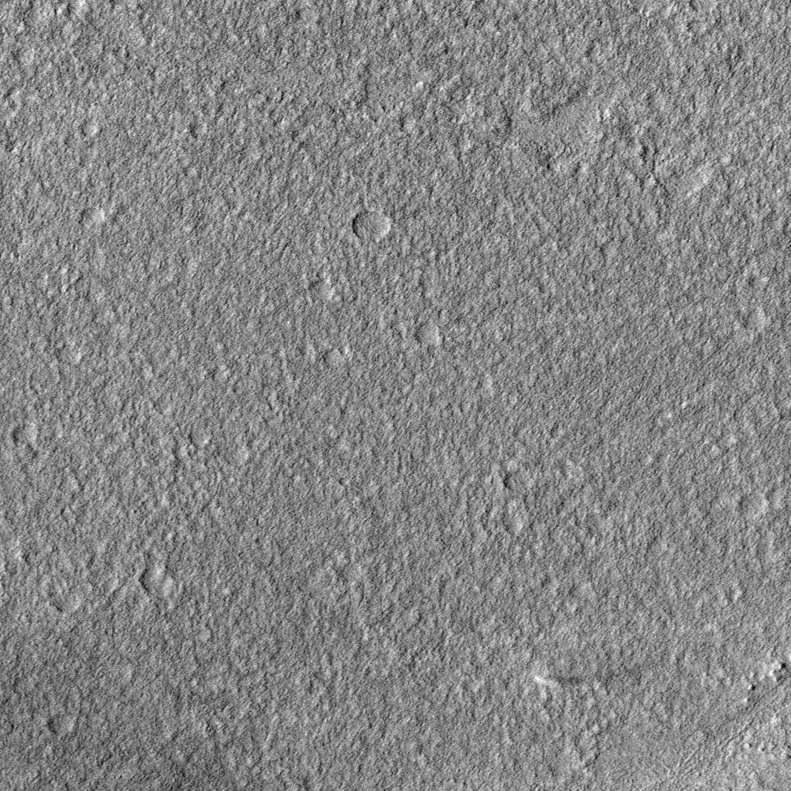dust_devil: (530, 672, 586, 693)
